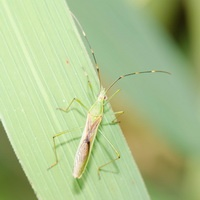insect: (57, 71, 170, 177)
